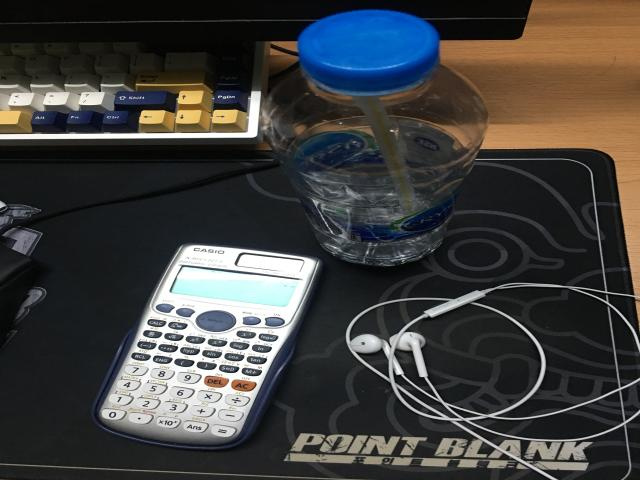Mouse: (0, 245, 38, 345)
bottle: (263, 9, 488, 266)
wire: (345, 283, 640, 480)
